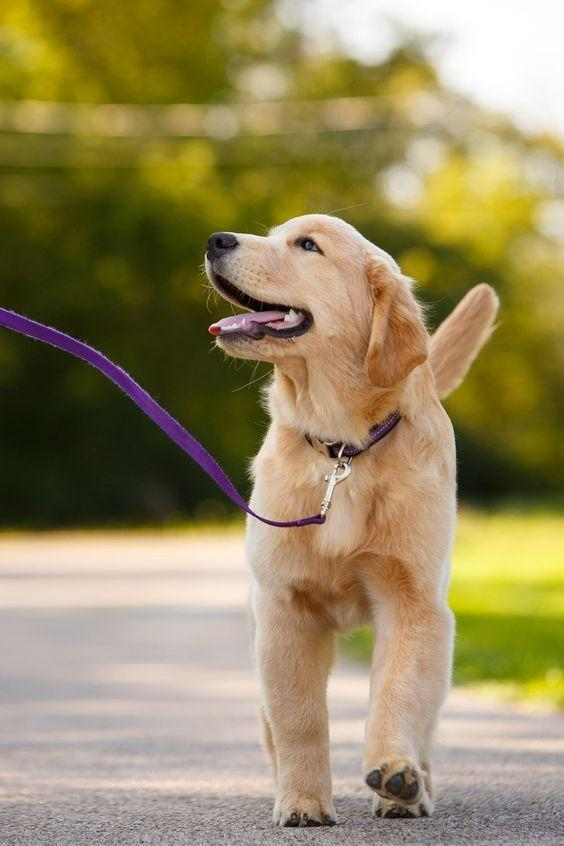puppy-dog: (205, 213, 501, 828)
